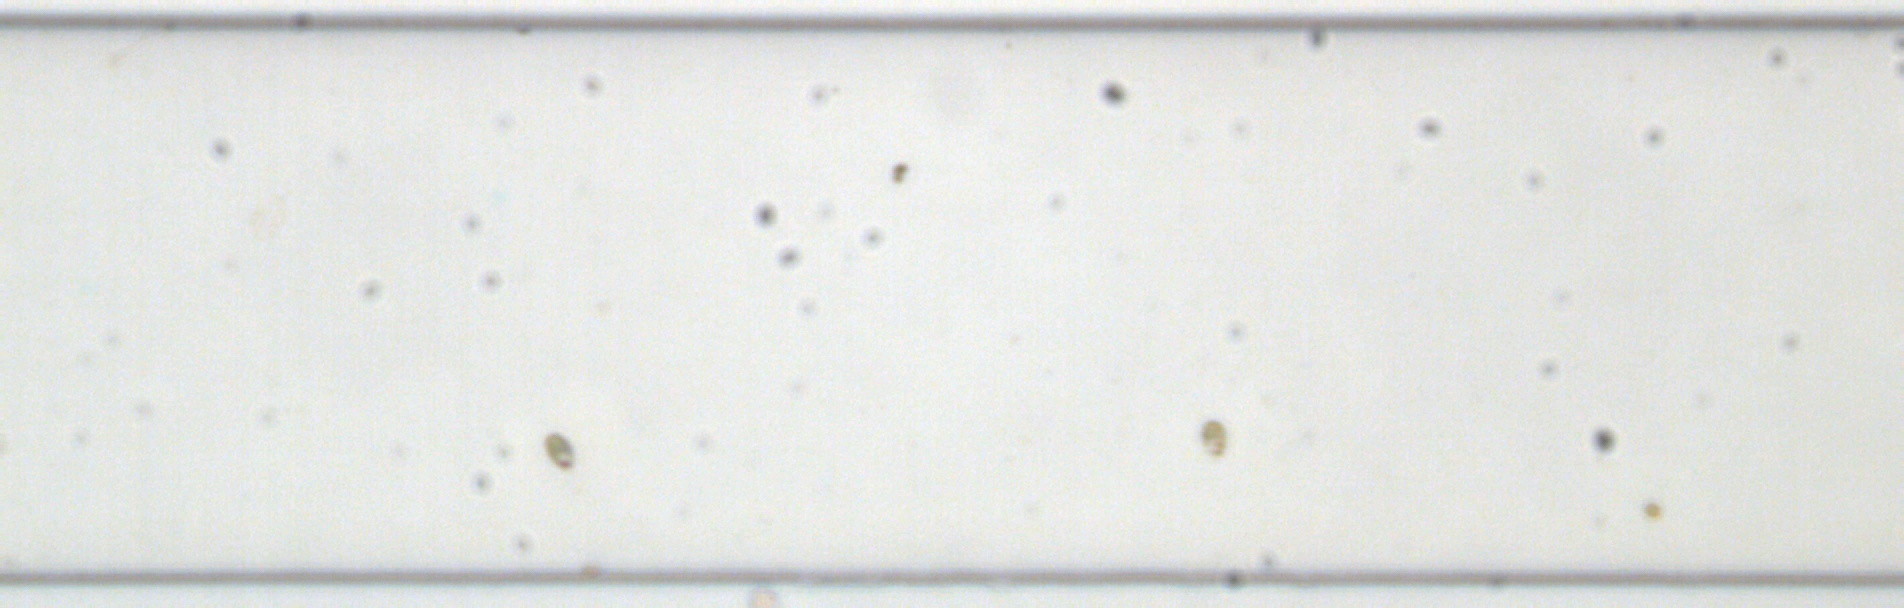Chlorella: (1640, 499, 1662, 519)
Dunaliella salina: (540, 428, 578, 473), (1198, 415, 1229, 459)
